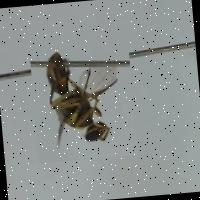Oriental-fruit-fly: (28, 28, 138, 164)
